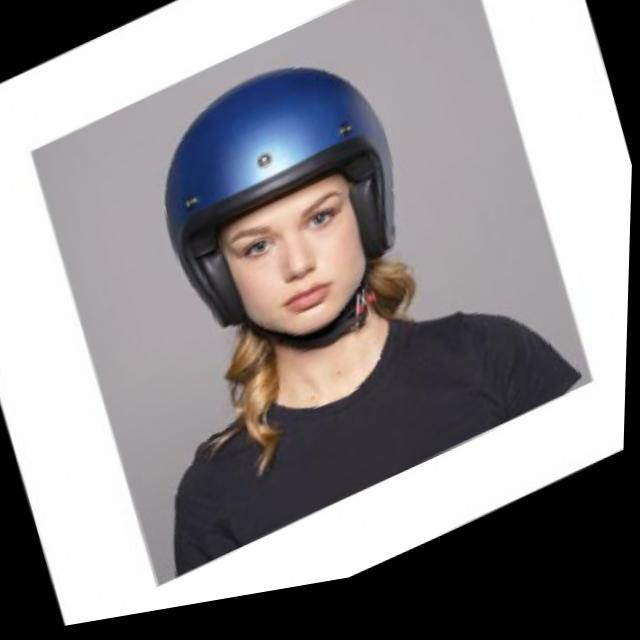Helmet: (158, 56, 408, 356)
